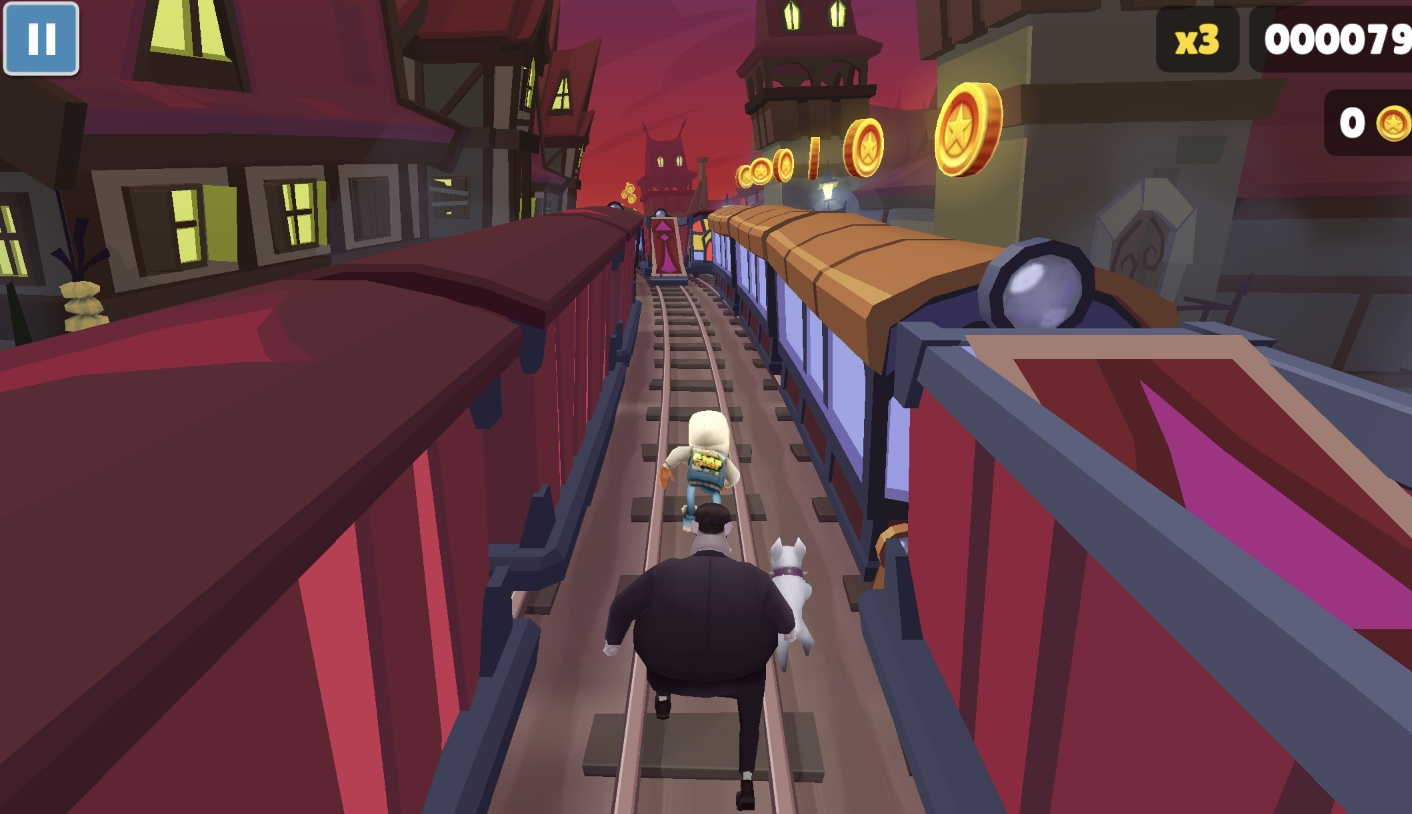train: (0, 207, 643, 814), (918, 326, 1412, 814), (704, 204, 1146, 620), (638, 209, 690, 289), (684, 211, 724, 278)
